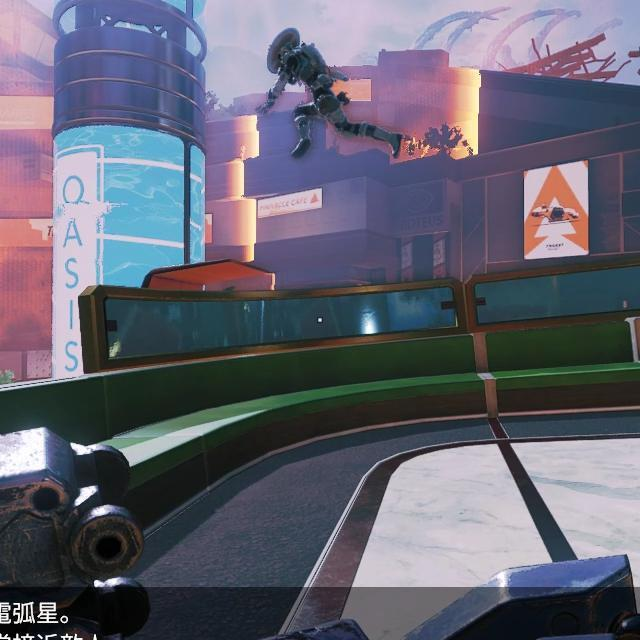avatar: (267, 28, 349, 159)
